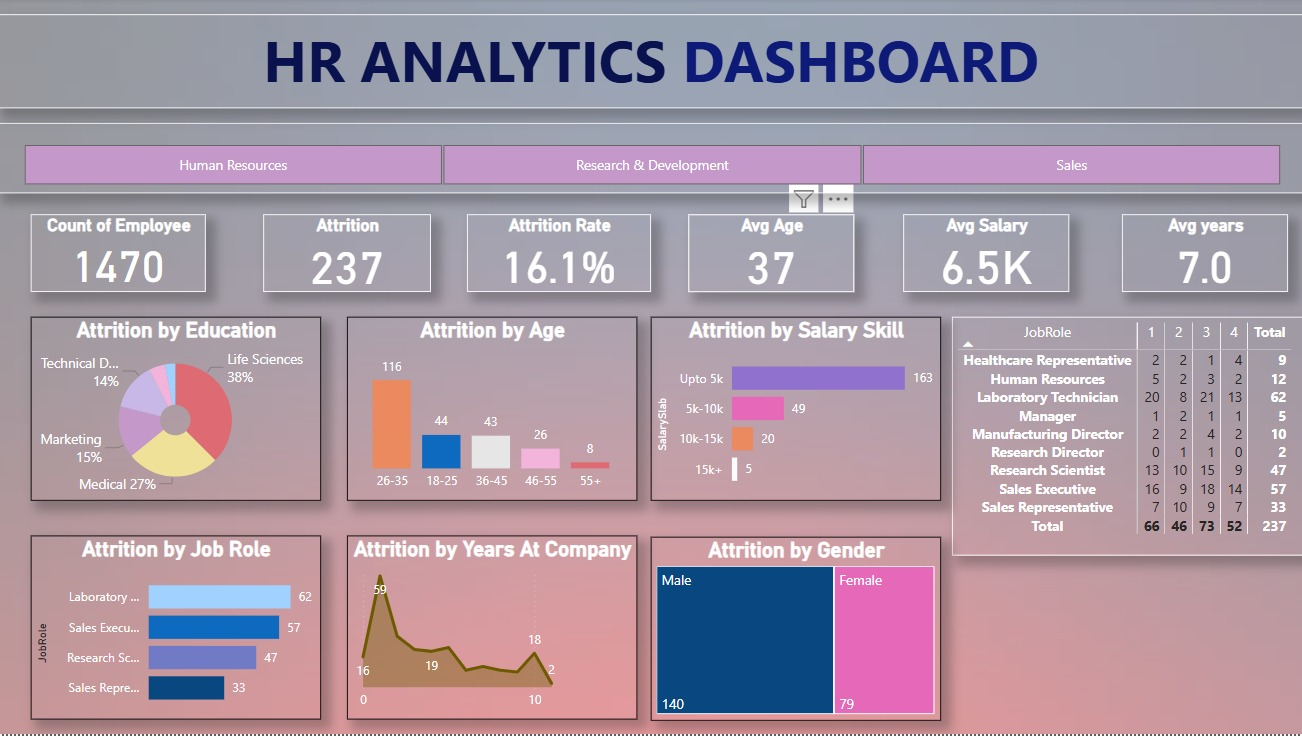

Layout of this report page (visuals, bound fields, positions):
{"tool":"powerbi","page":{"name":"Page 1","canvas":[1280,720],"ordinal":0},"visuals":[{"type":"card","title":"Count of Employee","fields":{"Values":["CountNonNull(HR_Analytics (2).EmpID)"]},"box":[33,211.6,171.2,75.8],"z":0},{"type":"card","title":"Attrition","fields":{"Values":["Sum(HR_Analytics (2).AttritionCount)"]},"box":[260.5,211.6,163.9,75.8],"z":1000},{"type":"card","title":"Attrition Rate","fields":{"Values":["HR_Analytics (2).AttritionRate"]},"box":[459.8,211.6,179.8,75.8],"z":2000},{"type":"card","title":"Avg Age ","fields":{"Values":["Avg(HR_Analytics (2).Age)"]},"box":[676.2,211.6,162.6,75.8],"z":3000},{"type":"card","title":"Avg years","fields":{"Values":["Avg(HR_Analytics (2).YearsAtCompany)"]},"box":[1100.5,211.6,162.6,75.8],"z":4000},{"type":"card","title":"Avg Salary","fields":{"Values":["Avg(HR_Analytics (2).MonthlyIncome)"]},"box":[886.6,211.6,162.6,75.8],"z":5000},{"type":"donutChart","title":"Attrition by Education","fields":{"Category":["HR_Analytics (2).EducationField"],"Y":["Sum(HR_Analytics (2).AttritionCount)"]},"box":[33,311.8,283.7,179.8],"z":6000},{"type":"columnChart","title":"Attrition by Age","fields":{"Category":["HR_Analytics (2).AgeGroup"],"Y":["Sum(HR_Analytics (2).AttritionCount)"]},"box":[342.4,311.8,283.7,179.8],"z":7000},{"type":"pivotTable","fields":{"Values":["Sum(HR_Analytics (2).AttritionCount)"],"Rows":["HR_Analytics (2).JobRole"],"Columns":["HR_Analytics (2).JobSatisfaction"]},"box":[934.2,311.8,346.1,233.6],"z":8000},{"type":"clusteredBarChart","title":"Attrition by Salary Skill","fields":{"Category":["HR_Analytics (2).SalarySlab"],"Y":["Sum(HR_Analytics (2).AttritionCount)"]},"box":[639.5,311.8,283.7,179.8],"z":9000},{"type":"barChart","title":"Attrition by Job Role","fields":{"Category":["HR_Analytics (2).JobRole"],"Y":["Sum(HR_Analytics (2).AttritionCount)"]},"box":[33,525.8,283.7,179.8],"z":10000},{"type":"areaChart","title":"Attrition by Years At Company","fields":{"Category":["HR_Analytics (2).YearsAtCompany"],"Y":["Sum(HR_Analytics (2).AttritionCount)"]},"box":[342.4,525.8,283.7,179.8],"z":11000},{"type":"treemap","title":"Attrition by Gender","fields":{"Group":["HR_Analytics (2).Gender"],"Values":["Sum(HR_Analytics (2).AttritionCount)"]},"box":[639.5,527,283.7,179.8],"z":12000},{"type":"slicer","fields":{"Values":["HR_Analytics (2).Department"]},"box":[0,122.3,1280.3,68.5],"z":13000},{"type":"textbox","box":[0,15.9,1280.3,91.7],"z":14000}]}

Visuals, with their boxes in screenshot pixels (x1, y1, x2, y2), scaled from the page's 1280x720 canvas onto the 1302x736 screenshot:
"Count of Employee" card: left=34, top=216, right=208, bottom=294
"Attrition" card: left=265, top=216, right=432, bottom=294
"Attrition Rate" card: left=468, top=216, right=651, bottom=294
"Avg Age " card: left=688, top=216, right=853, bottom=294
"Avg years" card: left=1119, top=216, right=1285, bottom=294
"Avg Salary" card: left=902, top=216, right=1067, bottom=294
"Attrition by Education" donutChart: left=34, top=319, right=322, bottom=503
"Attrition by Age" columnChart: left=348, top=319, right=637, bottom=503
pivotTable - Sum(HR_Analytics (2).AttritionCount) x HR_Analytics (2).JobRole: left=950, top=319, right=1301, bottom=558
"Attrition by Salary Skill" clusteredBarChart: left=650, top=319, right=939, bottom=503
"Attrition by Job Role" barChart: left=34, top=537, right=322, bottom=721
"Attrition by Years At Company" areaChart: left=348, top=537, right=637, bottom=721
"Attrition by Gender" treemap: left=650, top=539, right=939, bottom=723
slicer - HR_Analytics (2).Department: left=0, top=125, right=1301, bottom=195
textbox: left=0, top=16, right=1301, bottom=110
